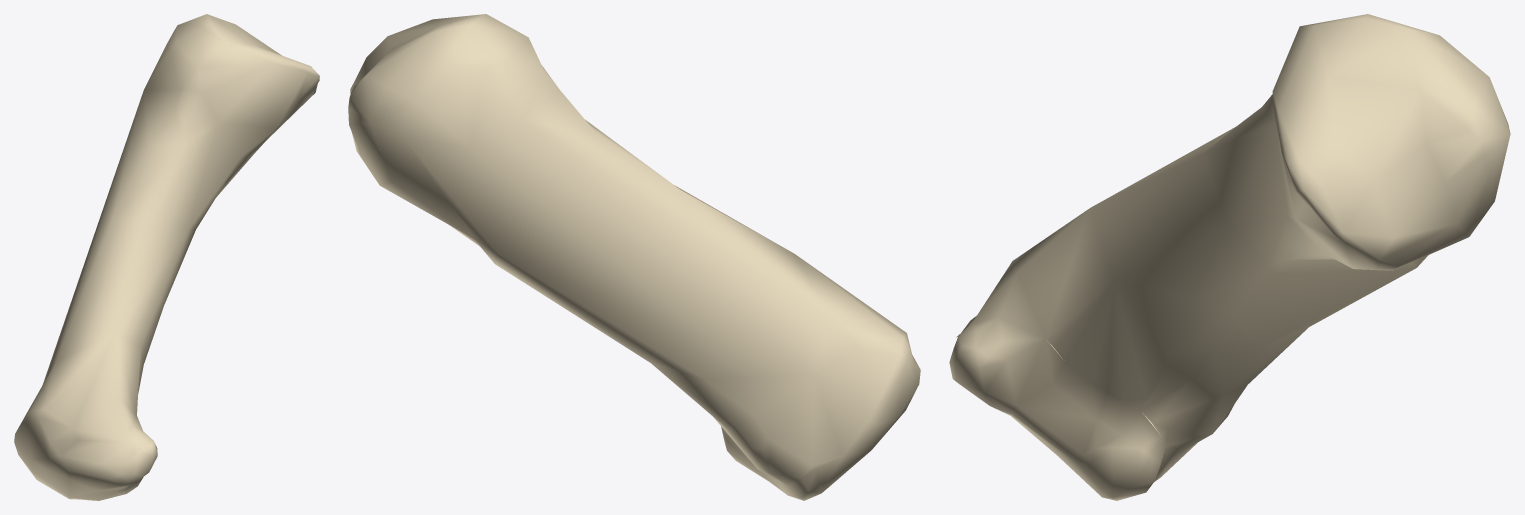
The model's file is esqueleto-first-metacarpal-bone-r.glb.
The picture shows the model from 3 angles, left to right: view 1: azimuth 30°, elevation 25°; view 2: azimuth 150°, elevation 25°; view 3: azimuth 270°, elevation 25°; orthographic projection. The views are drawn at different scales.
Parts seen in each view (by area): view 1: First metacarpal bone.r; view 2: First metacarpal bone.r; view 3: First metacarpal bone.r.
Boxes of the visible parts, x1,y1,x2,y2 form: First metacarpal bone.r: (14,14,319,500); First metacarpal bone.r: (348,14,920,500); First metacarpal bone.r: (949,14,1510,500).
Bounding box in the file's own units: 0.0387 × 0.0384 × 0.0315.
